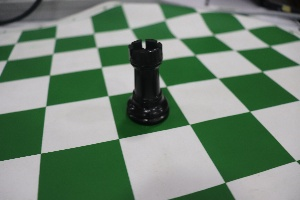black_rook: (116, 23, 186, 139)
